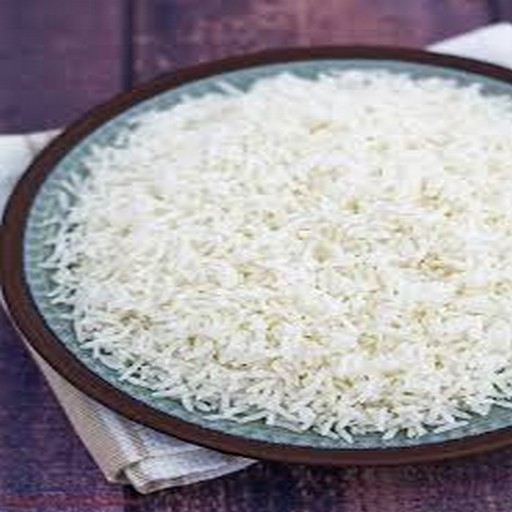rice: (162, 179, 397, 373)
